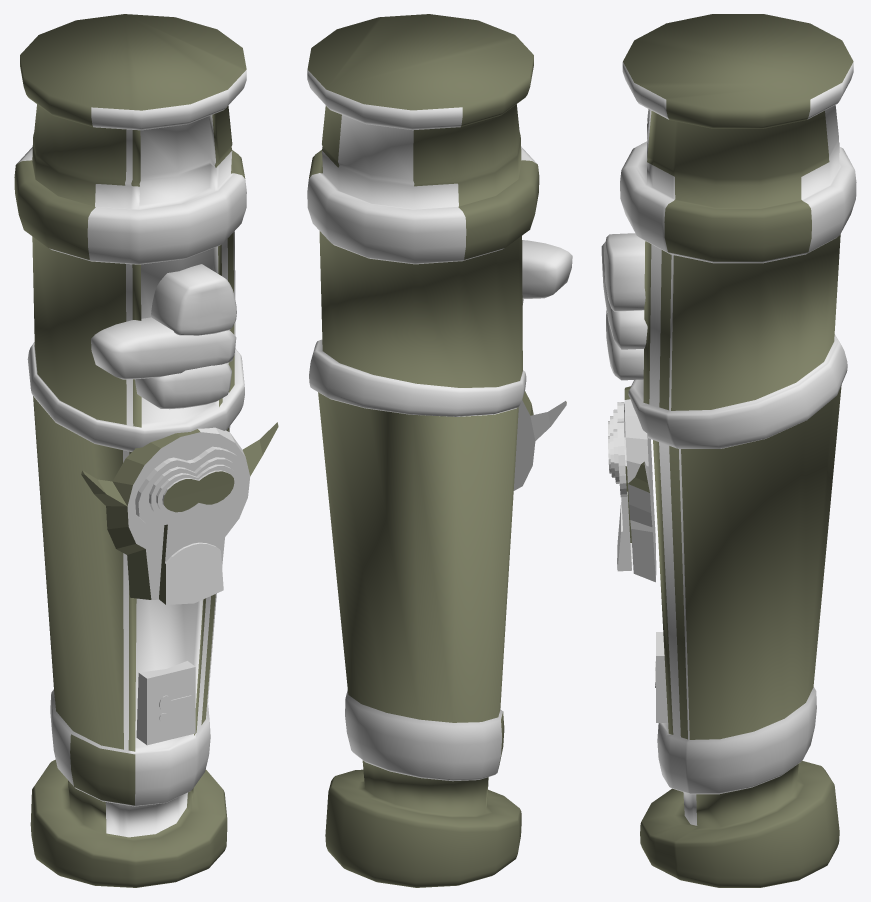
Rendered from Pillar2.fbx.
3 views of the same model, side by side, from view 1: azimuth 30°, elevation 25°; view 2: azimuth 150°, elevation 25°; view 3: azimuth 270°, elevation 25° (orthographic).
Visible parts, largest first — view 1: Pillar.000; view 2: Pillar.000; view 3: Pillar.000.
Boxes of the visible parts, left/top/right/bottom form: Pillar.000: left=14, top=14, right=278, bottom=887; Pillar.000: left=307, top=14, right=572, bottom=887; Pillar.000: left=601, top=14, right=856, bottom=887.
Size of the model in its own units: 66.29 by 248 by 72.51.
